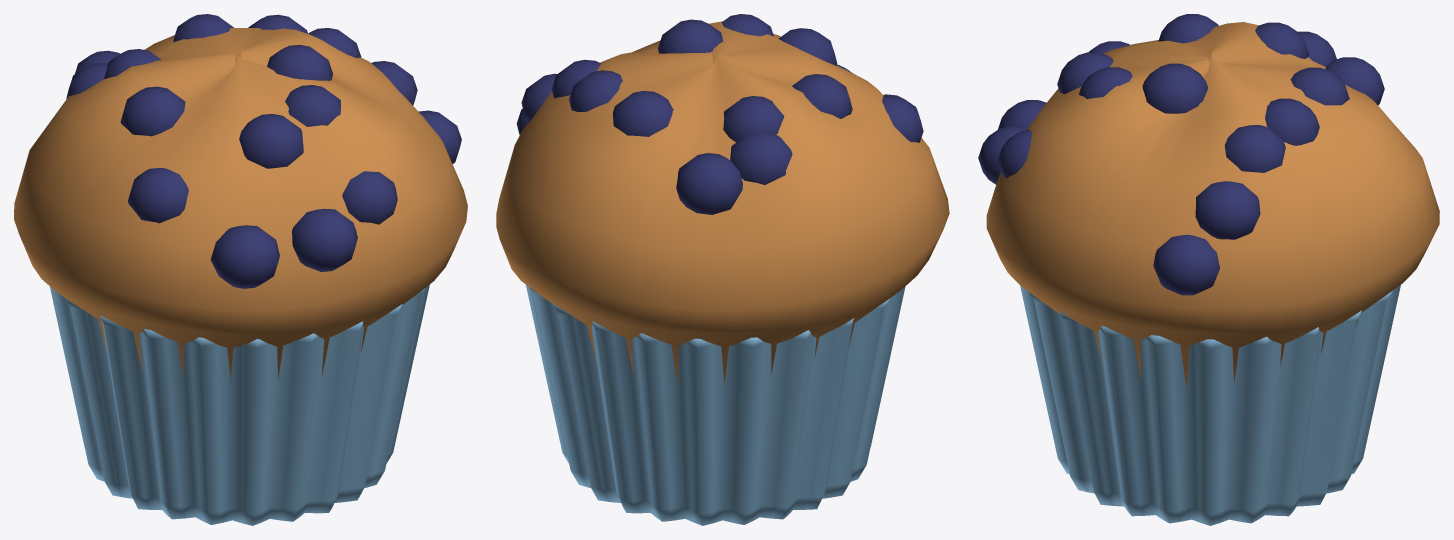
The model's file is blueberry-muffin.glb.
The picture shows the model from 3 angles, left to right: view 1: azimuth 30°, elevation 25°; view 2: azimuth 150°, elevation 25°; view 3: azimuth 270°, elevation 25°; orthographic projection.
Parts seen in each view (by area): view 1: edible_muffin, container_wrapper, edible_blueberry.008, edible_blueberry.003, edible_blueberry.001, edible_blueberry.011, edible_blueberry.004, edible_blueberry.002, edible_blueberry.007, edible_blueberry.010, edible_blueberry.005, edible_blueberry.012 (+5 smaller); view 2: edible_muffin, container_wrapper, edible_blueberry.014, edible_blueberry.009, edible_blueberry.005, edible_blueberry, edible_blueberry.010, edible_blueberry.004, edible_blueberry.006, edible_blueberry.011, edible_blueberry.001, edible_blueberry.013 (+2 smaller); view 3: edible_muffin, container_wrapper, edible_blueberry.012, edible_blueberry.015, edible_blueberry.010, edible_blueberry.013, edible_blueberry.006, edible_blueberry.005, edible_blueberry.014, edible_blueberry.001, edible_blueberry, edible_blueberry.004 (+5 smaller).
Part boxes in pixels (<box>): edible_muffin: <box>14,28,467,380</box>; container_wrapper: <box>50,284,429,525</box>; edible_blueberry.008: <box>210,225,279,288</box>; edible_blueberry.003: <box>292,208,357,271</box>; edible_blueberry.001: <box>239,114,303,168</box>; edible_blueberry.011: <box>128,168,188,223</box>; edible_blueberry.004: <box>120,86,185,136</box>; edible_blueberry.002: <box>342,171,397,224</box>; edible_blueberry.007: <box>285,85,340,126</box>; edible_blueberry.010: <box>267,44,332,80</box>; edible_blueberry.005: <box>173,14,233,41</box>; edible_blueberry.012: <box>418,110,461,163</box>; edible_muffin: <box>496,21,949,384</box>; container_wrapper: <box>525,284,905,525</box>; edible_blueberry.014: <box>676,153,742,214</box>; edible_blueberry.009: <box>730,133,792,184</box>; edible_blueberry.005: <box>613,91,673,136</box>; edible_blueberry: <box>723,96,784,142</box>; edible_blueberry.010: <box>657,19,723,53</box>; edible_blueberry.004: <box>792,74,852,118</box>; edible_blueberry.006: <box>569,70,622,111</box>; edible_blueberry.011: <box>882,96,923,142</box>; edible_blueberry.001: <box>778,28,837,65</box>; edible_blueberry.013: <box>551,59,601,98</box>; edible_muffin: <box>986,22,1439,389</box>; container_wrapper: <box>1020,285,1400,525</box>; edible_blueberry.012: <box>1153,234,1219,295</box>; edible_blueberry.015: <box>1195,181,1260,239</box>; edible_blueberry.010: <box>1142,63,1207,113</box>; edible_blueberry.013: <box>1224,125,1285,172</box>; edible_blueberry.006: <box>1265,98,1319,145</box>; edible_blueberry.005: <box>1290,67,1349,105</box>; edible_blueberry.014: <box>1325,57,1384,105</box>; edible_blueberry.001: <box>1057,52,1113,94</box>; edible_blueberry: <box>1255,22,1309,58</box>; edible_blueberry.004: <box>1158,14,1218,43</box>.
Bounding box in the file's own units: 0.1104 × 0.1098 × 0.11.
